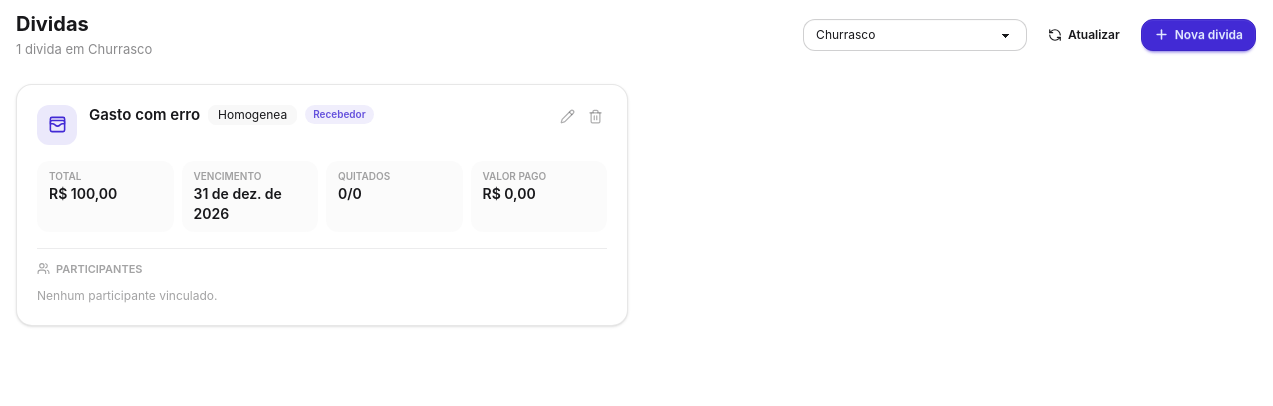
Expenses page › exibe mensagem de feedback quando deletar dívida falha
Step 1. Click the button named "excluir divida" → click(595, 116), box [583,104,607,128]
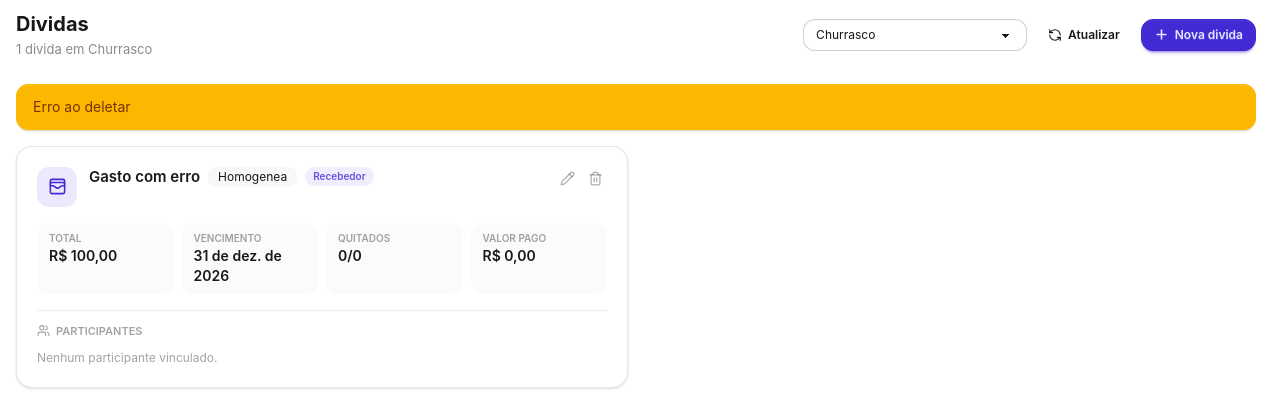
Result: the text "Erro ao deletar" is shown at [33,96,130,116]
